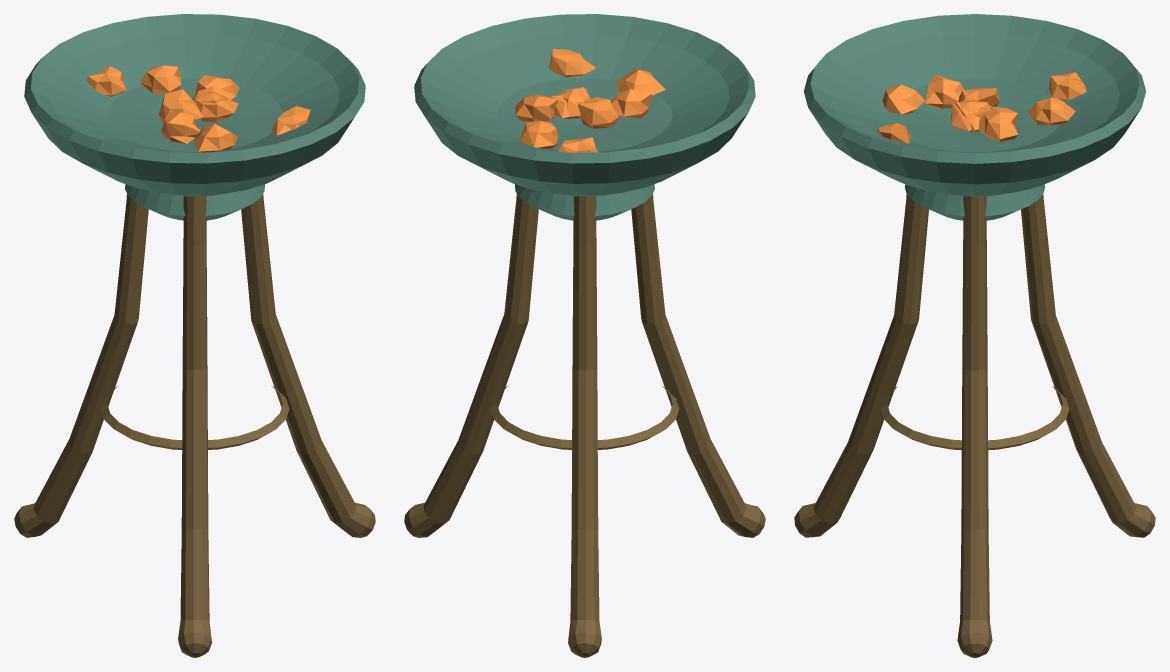
File: brasero.glb
3 views of the same model, side by side, from view 1: azimuth 30°, elevation 25°; view 2: azimuth 150°, elevation 25°; view 3: azimuth 270°, elevation 25° (orthographic).
Parts seen in each view (by area): view 1: brasero; view 2: brasero; view 3: brasero.
Part boxes in pixels (bbox=[...]): brasero: bbox=[14, 14, 375, 657]; brasero: bbox=[404, 14, 765, 657]; brasero: bbox=[794, 14, 1155, 657].
Bounding box in the file's own units: 0.8575 × 1.24 × 0.8232.
